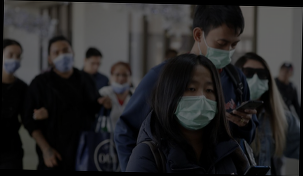mask_weared_incorrect: (110, 70, 132, 94)
with_mask: (172, 75, 219, 131), (239, 63, 270, 101), (49, 44, 74, 71), (2, 49, 23, 74)
without_mask: (84, 57, 103, 74)
